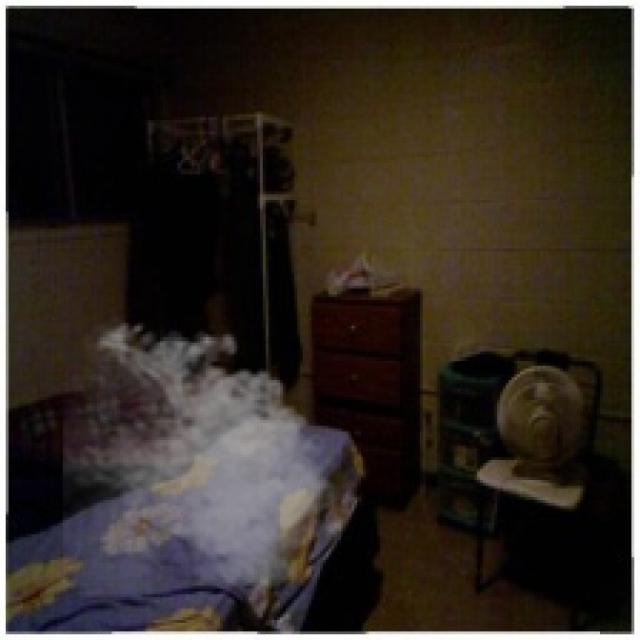smoke: (63, 314, 346, 597)
